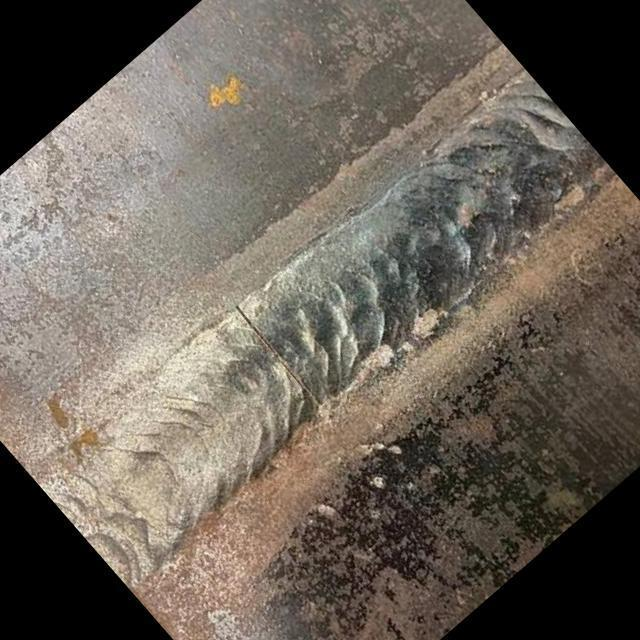defect: (228, 293, 321, 404)
